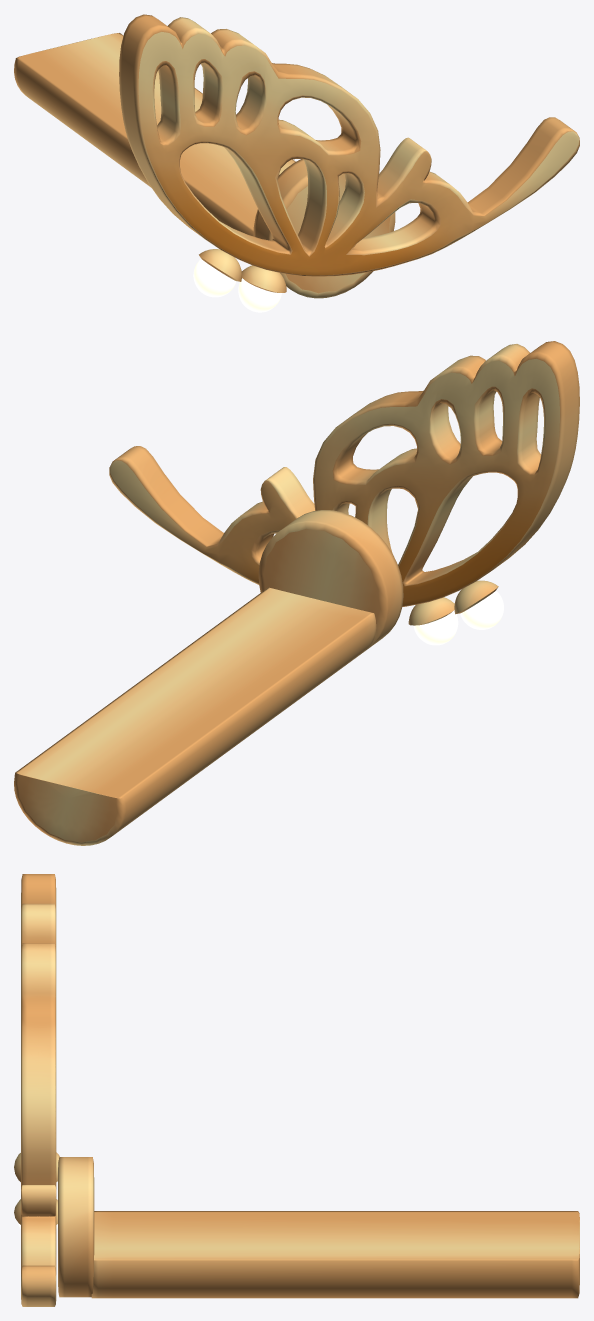
File: piasu.fbx
3 renders of one model, top to bottom at view 1: azimuth 30°, elevation 25°; view 2: azimuth 150°, elevation 25°; view 3: azimuth 270°, elevation 25°, orthographic. The views are drawn at different scales.
Parts seen in each view (by area): view 1: polySurface4; view 2: polySurface4; view 3: polySurface4.
Boxes of the visible parts, x1,y1,x2,y2 form: polySurface4: [14, 14, 579, 312]; polySurface4: [14, 341, 579, 845]; polySurface4: [14, 874, 579, 1306].
Bounding box in the file's own units: 54.8 × 39.01 × 61.91.
